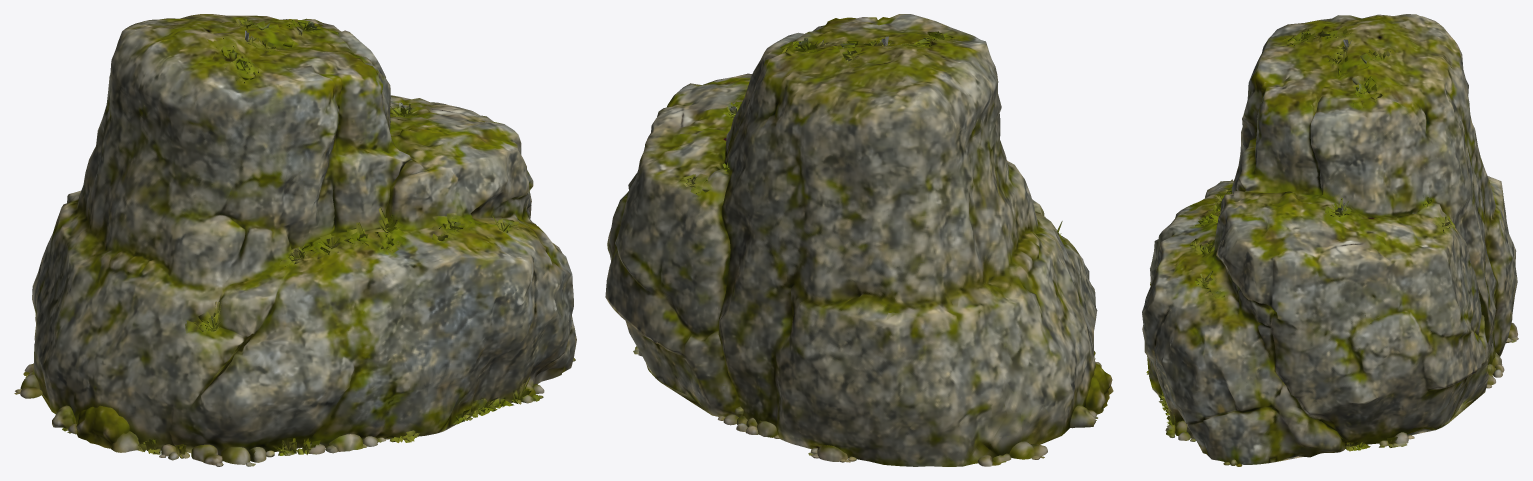
File: meadow_2.glb
The picture shows the model from 3 angles, left to right: view 1: azimuth 30°, elevation 25°; view 2: azimuth 150°, elevation 25°; view 3: azimuth 270°, elevation 25°; orthographic projection. The views are drawn at different scales.
Visible parts, largest first — view 1: geometry_0; view 2: geometry_0; view 3: geometry_0.
Part boxes in pixels (<box>): geometry_0: <box>14,14,576,466</box>; geometry_0: <box>605,14,1113,466</box>; geometry_0: <box>1142,14,1518,466</box>.
Size of the model in its own units: 0.9521 by 0.6709 by 0.7373.
1 material, 1 textured.
